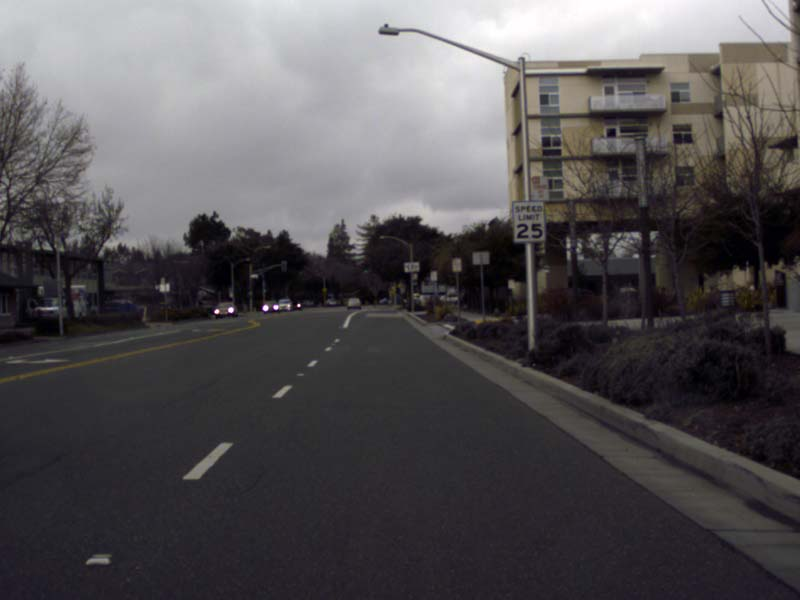Green: (362, 263, 369, 275), (262, 282, 267, 293)
